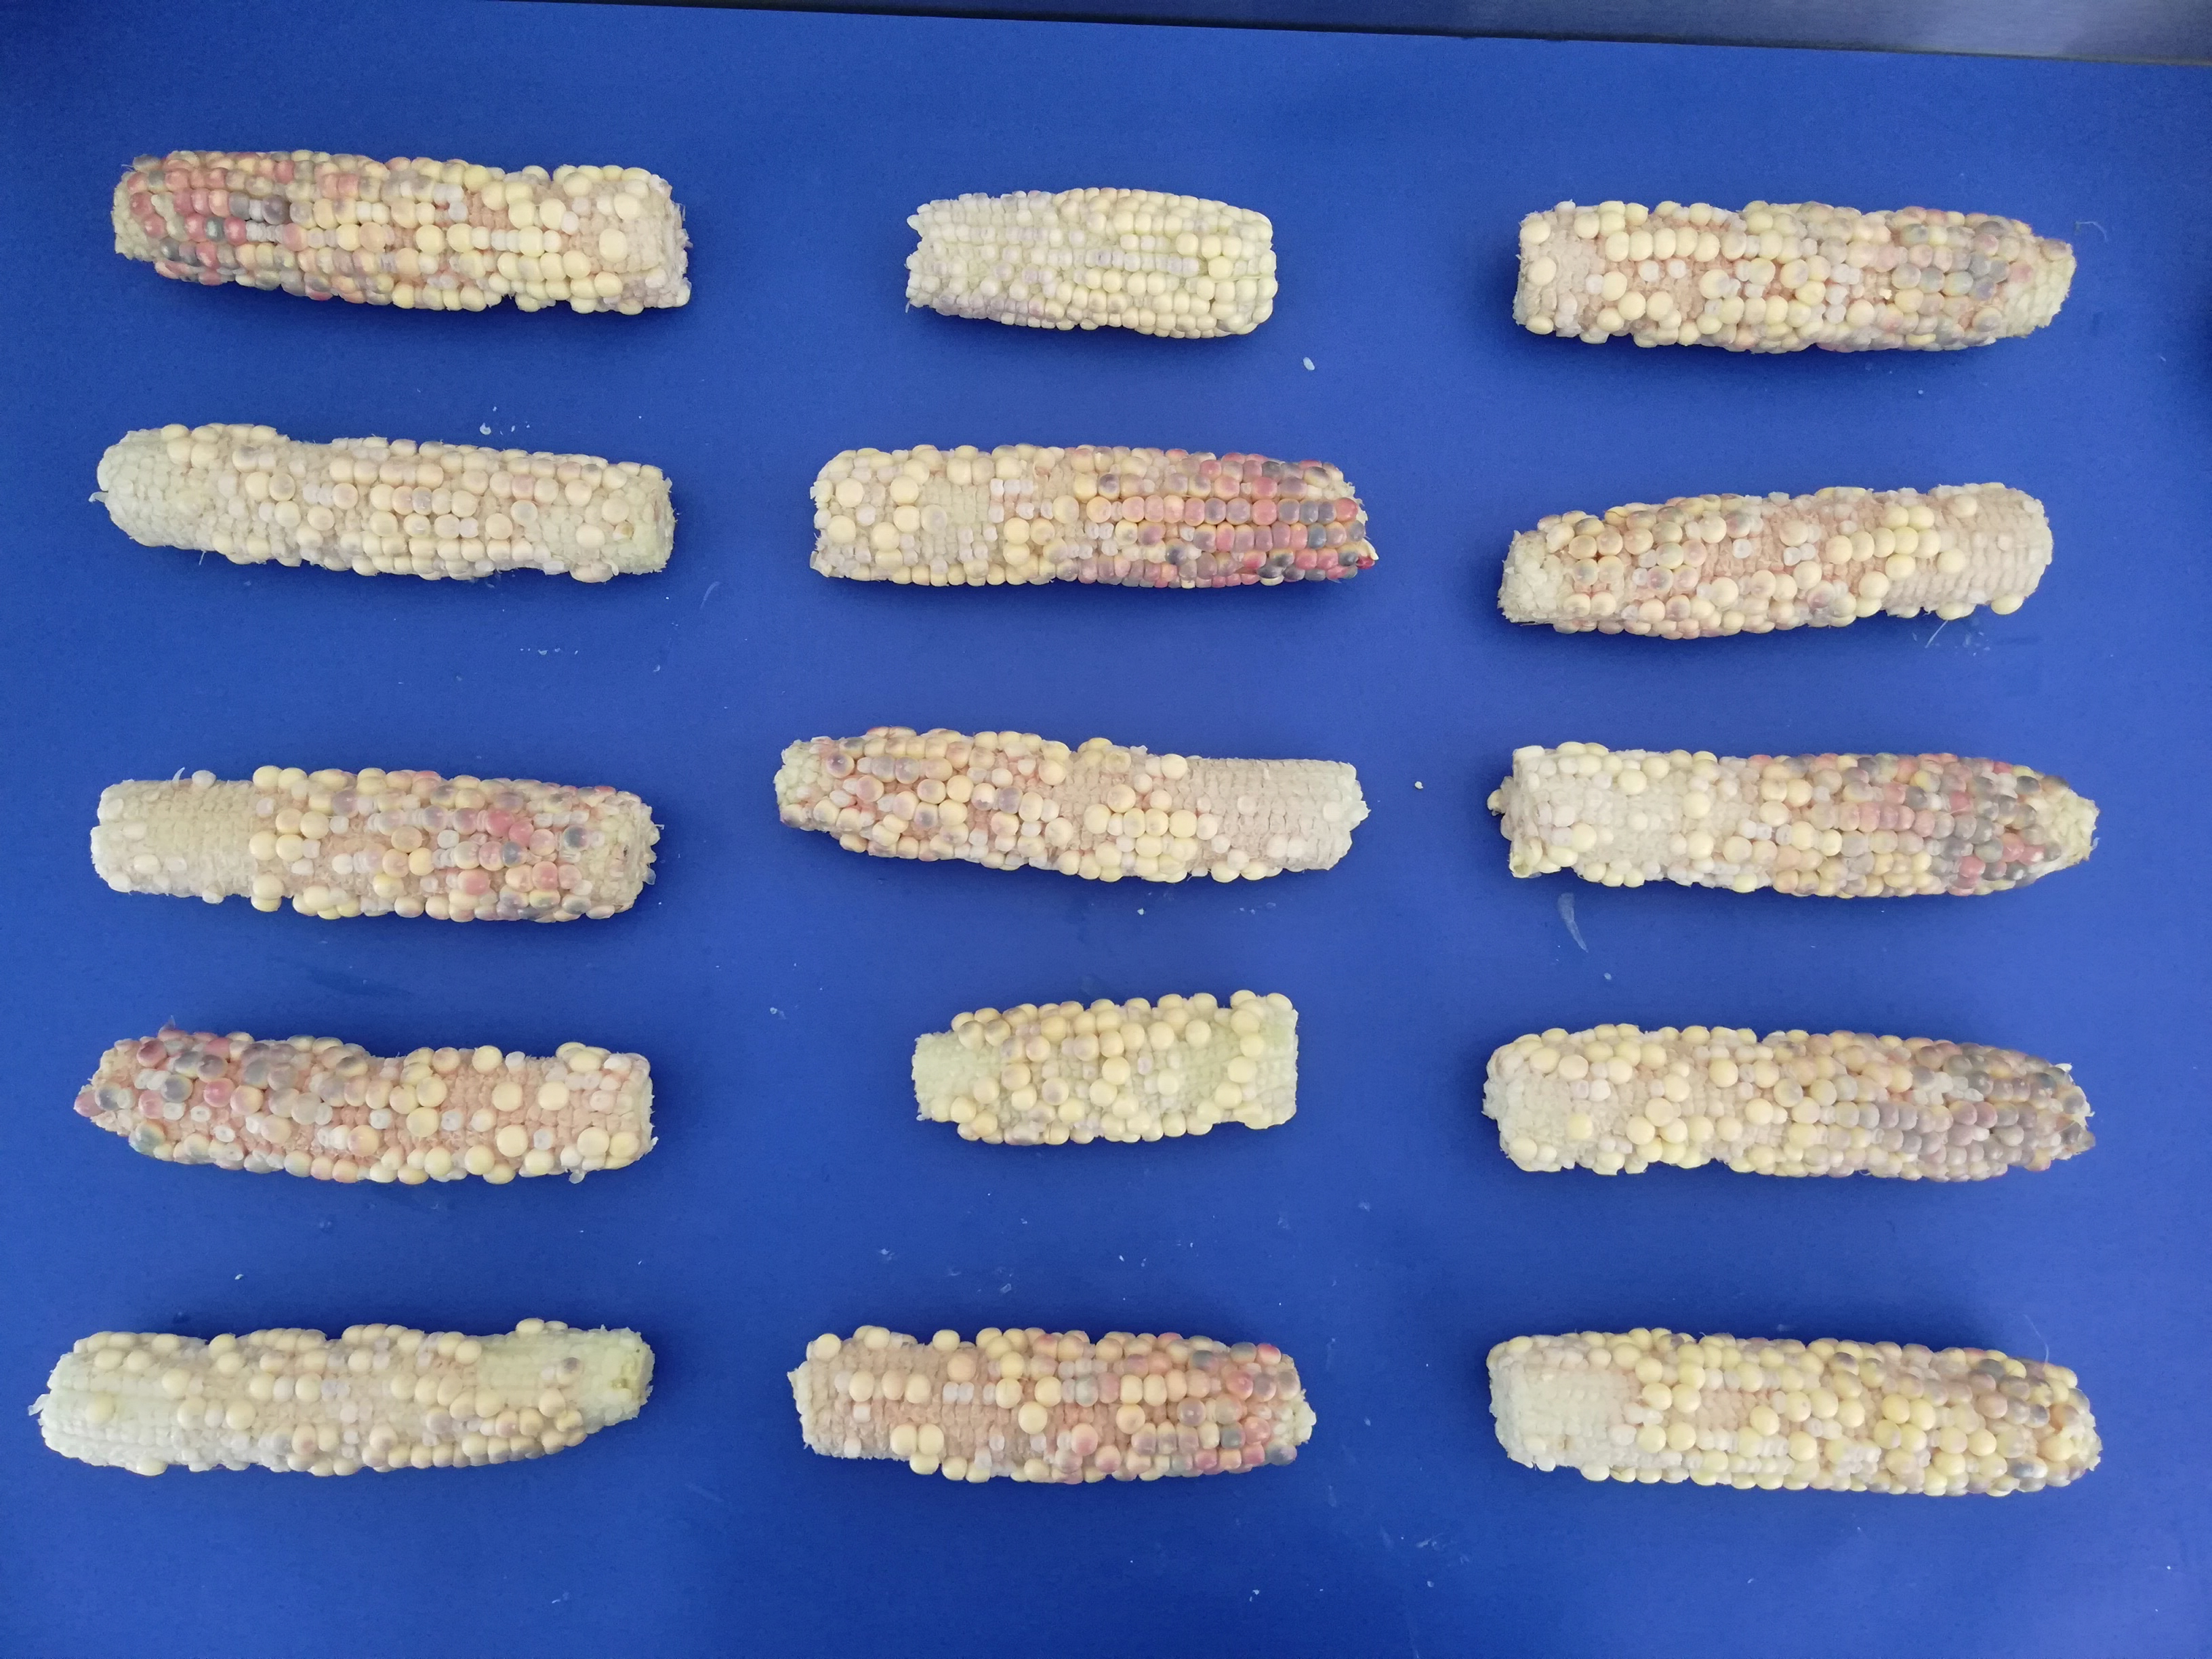corn: (1555, 1049, 1592, 1080), (888, 472, 921, 505), (533, 1080, 566, 1112), (1749, 1406, 1780, 1438), (991, 1380, 1021, 1412), (291, 1370, 319, 1403), (1756, 802, 1789, 828), (388, 1377, 420, 1403), (1825, 533, 1851, 563), (488, 1086, 523, 1107), (449, 488, 472, 518), (1604, 230, 1627, 258), (1172, 230, 1200, 253), (509, 193, 531, 221), (1103, 1035, 1127, 1060), (1080, 805, 1104, 829), (327, 458, 350, 484), (251, 769, 273, 789)
ear: (1486, 1018, 2106, 1216), (1491, 1317, 2101, 1514), (105, 136, 698, 335), (30, 1312, 665, 1481), (56, 1019, 664, 1194), (777, 720, 1376, 896), (1507, 192, 2081, 369), (1500, 477, 2062, 652), (792, 1326, 1312, 1513), (799, 441, 1385, 594), (899, 176, 1285, 354), (907, 992, 1296, 1140)
